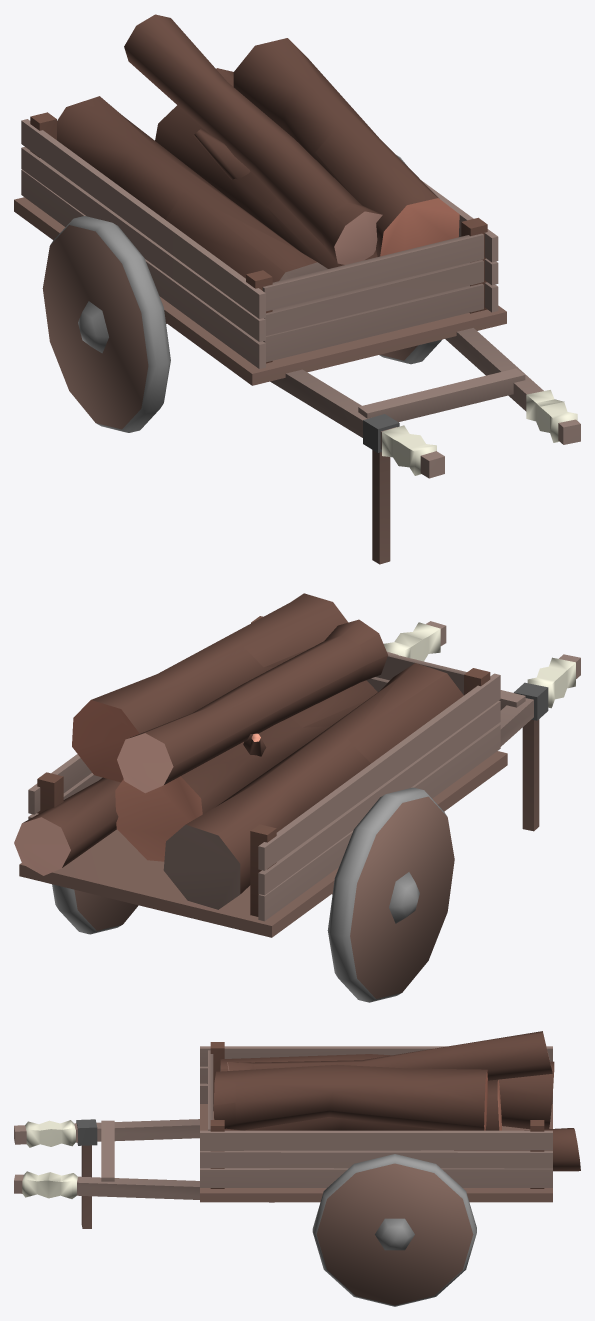
Rendered from dray_004.glb.
3 renders of one model, top to bottom at view 1: azimuth 30°, elevation 25°; view 2: azimuth 150°, elevation 25°; view 3: azimuth 270°, elevation 25°, orthographic. The views are drawn at different scales.
Visible parts, largest first — view 1: dray_004.001; view 2: dray_004.001; view 3: dray_004.001.
Part boxes in pixels (x1,y1,x2,y2): dray_004.001: [14, 14, 580, 564]; dray_004.001: [14, 593, 580, 1002]; dray_004.001: [14, 1031, 580, 1306].
Bounding box in the file's own units: 2.15 × 1.84 × 4.24.
1 material, 1 textured.
